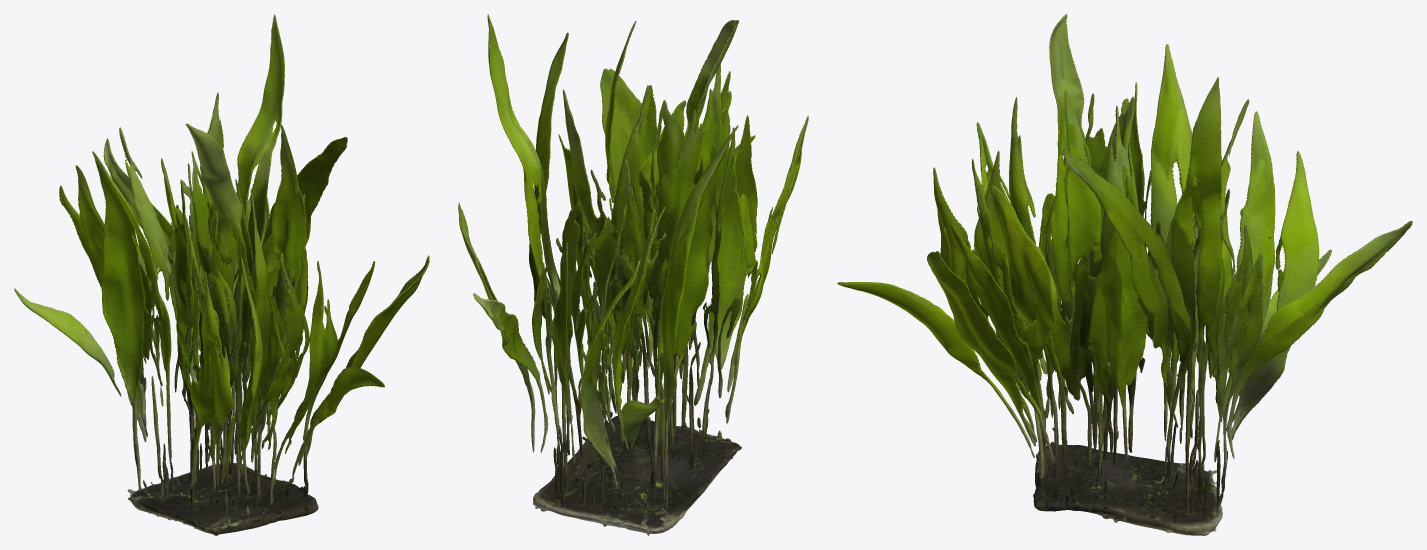
The model's file is plantcoglb.glb.
3 renders of one model, left to right at view 1: azimuth 30°, elevation 25°; view 2: azimuth 150°, elevation 25°; view 3: azimuth 270°, elevation 25°, orthographic. The views are drawn at different scales.
Parts seen in each view (by area): view 1: tripo_node_72479da6-67c4-4d5e-9c90-e59b9ff6004a; view 2: tripo_node_72479da6-67c4-4d5e-9c90-e59b9ff6004a; view 3: tripo_node_72479da6-67c4-4d5e-9c90-e59b9ff6004a.
Part boxes in pixels (x1,y1,x2,y2): tripo_node_72479da6-67c4-4d5e-9c90-e59b9ff6004a: [14, 14, 429, 535]; tripo_node_72479da6-67c4-4d5e-9c90-e59b9ff6004a: [458, 14, 808, 535]; tripo_node_72479da6-67c4-4d5e-9c90-e59b9ff6004a: [837, 14, 1412, 535].
Size of the model in its own units: 0.5004 by 0.924 by 1.
Materials: 1 (1 with a texture image).
